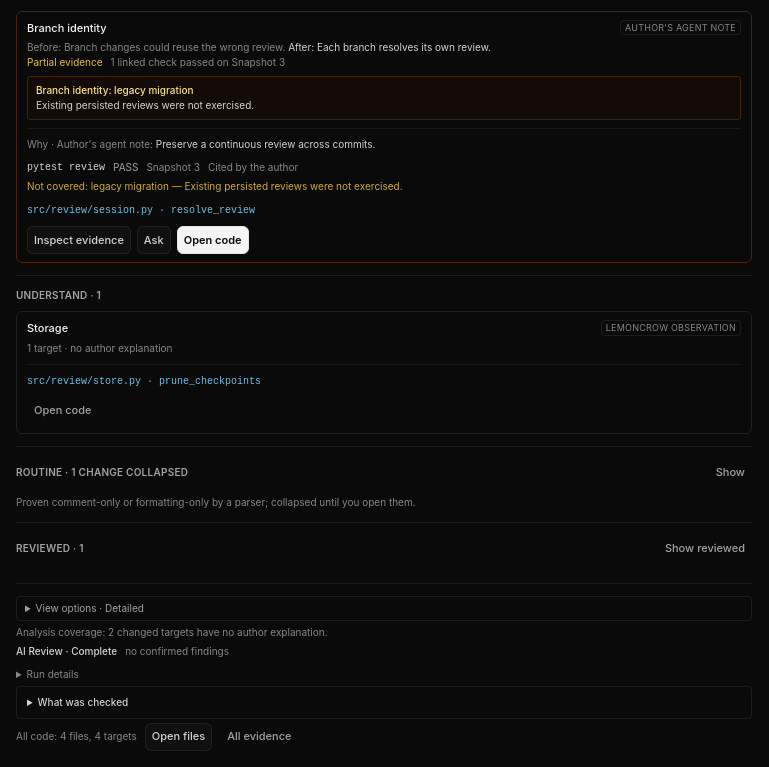
Test: ReviewBrief AI review › shows the Snapshot-bound action result supplied by the Reader
(page scrolled)
Check: the element with test id "brief-ai-review" shows "AI Review · Complete", box [16,644,229,680]
Click the heading "Run details" at (53, 674), box [27,668,79,680]
(page scrolled)
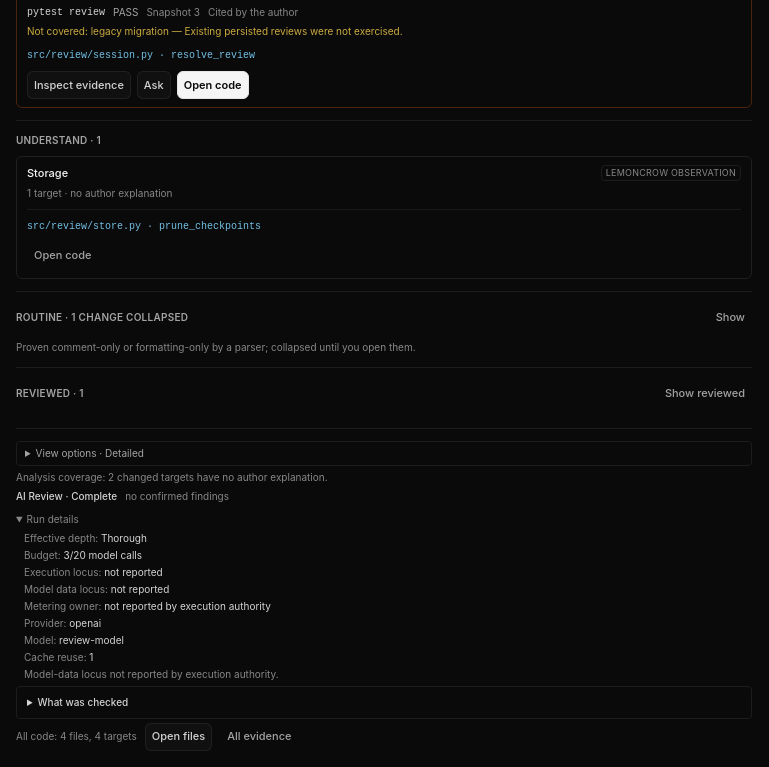
Check: the element with test id "ai-run-details" shows "Effective depth: thorough", box [24,512,279,680]
Check: the element with test id "ai-run-details" shows "Budget: 3/20 model calls", box [24,512,279,680]
Check: the element with test id "ai-run-details" shows "Cache reuse: 1", box [24,512,279,680]
